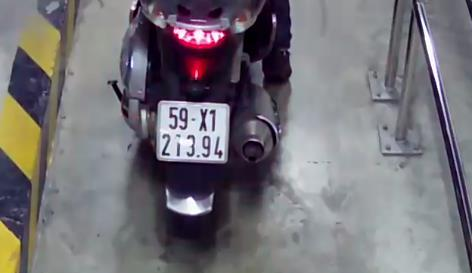lisence: (156, 101, 230, 165)
